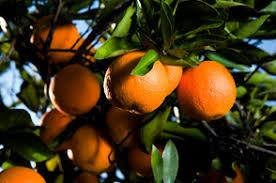orange: (37, 112, 147, 165), (95, 51, 167, 111), (22, 17, 90, 59), (178, 60, 225, 108), (53, 69, 97, 110)
